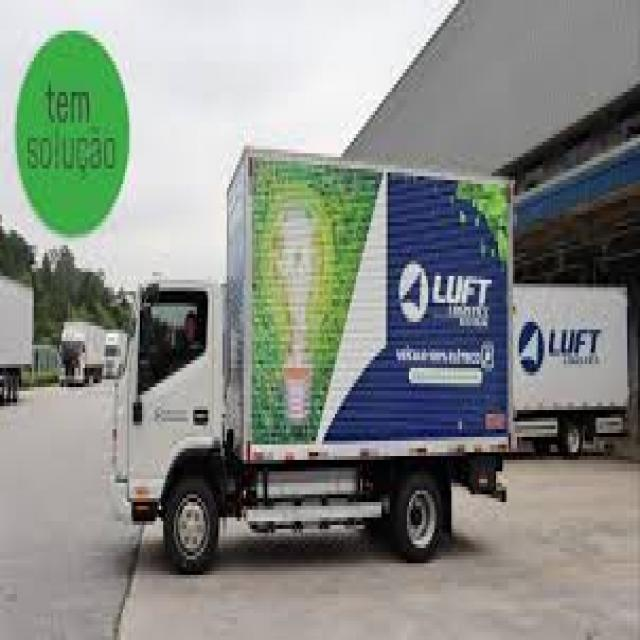truck: (104, 108, 528, 592)
